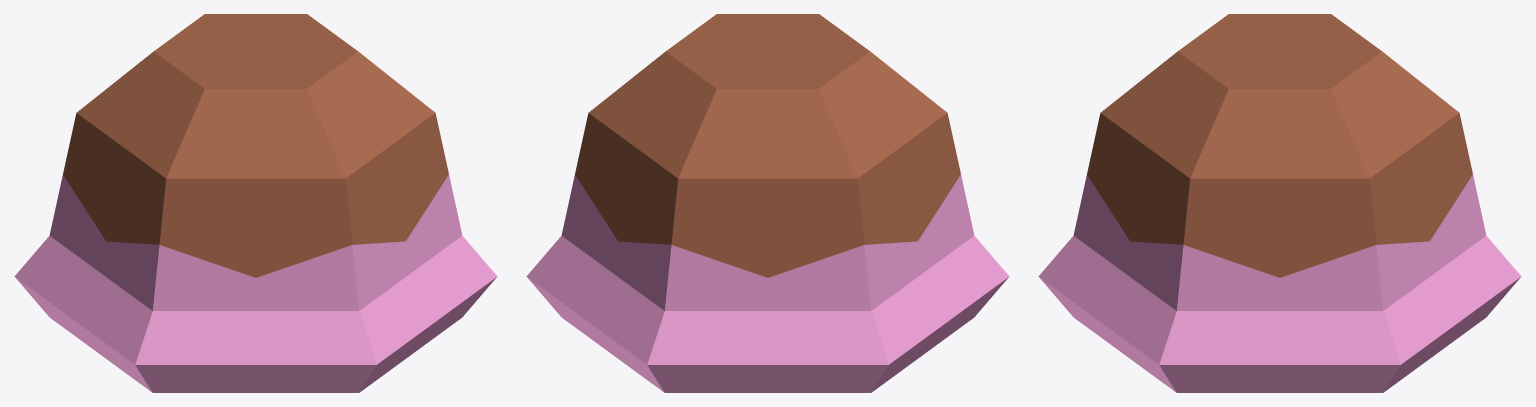
Rendered from iceCreamScoop.obj.
3 views of the same model, side by side, from view 1: azimuth 30°, elevation 25°; view 2: azimuth 150°, elevation 25°; view 3: azimuth 270°, elevation 25° (orthographic).
Parts seen in each view (by area): view 1: iceCreamScoop; view 2: iceCreamScoop; view 3: iceCreamScoop.
Part boxes in pixels (x1,y1,x2,y2): iceCreamScoop: (14, 14, 497, 392); iceCreamScoop: (526, 14, 1009, 392); iceCreamScoop: (1038, 14, 1521, 392).
Bounding box in the file's own units: 0.2352 × 0.165 × 0.2716.
